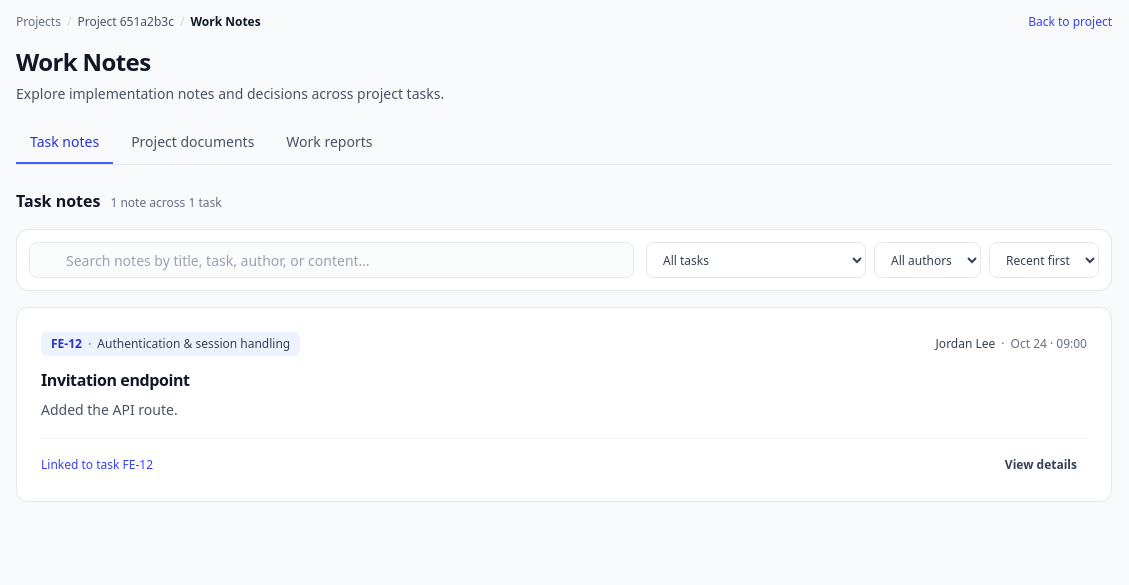
Project task notes › loads persisted Task Notes in compact explorer mode and expands details on demand
The width and height of the screenshot is (1129, 585).
Expected: the heading "Invitation endpoint" is shown, [41, 369, 190, 391]
Expected: the text "Added the API route." is shown, [41, 400, 178, 419]
What coordinates should you click on to do the following:
click the button "View details"
I would click on:
 (1041, 465)
Its box is [995, 453, 1087, 477].
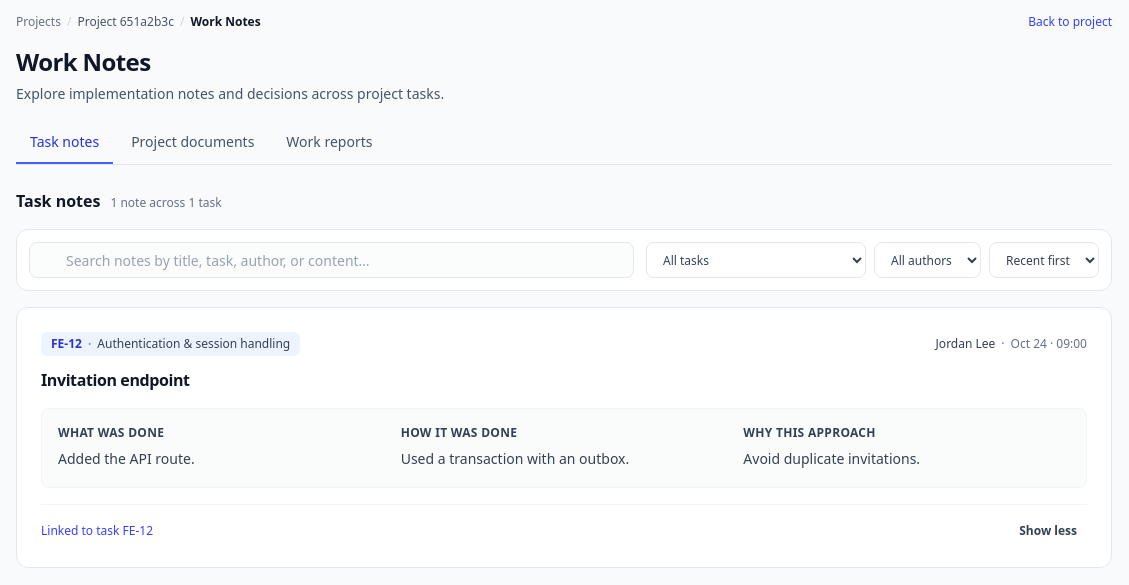
Expected: the text "Used a transaction with an outbox." is shown, [401, 449, 629, 468]
Expected: the text "Avoid duplicate invitations." is shown, [743, 449, 920, 468]
What coordinates should you click on to do the following:
click the button "Show less"
I would click on:
 (1048, 531)
Its box is [1009, 519, 1087, 543].
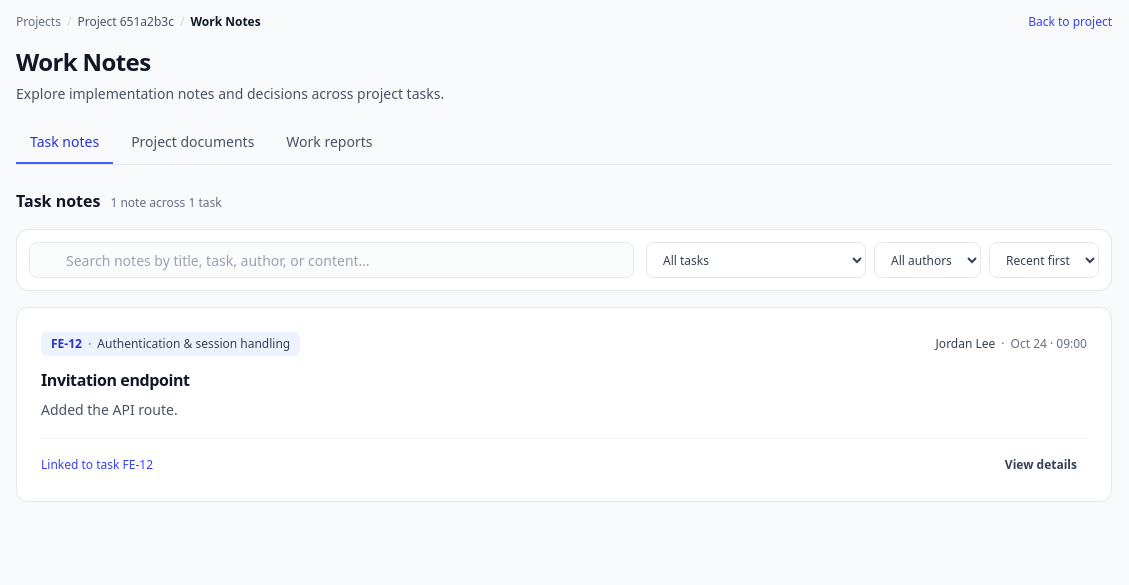
Expected: the text "Used a transaction with an outbox." is gone
